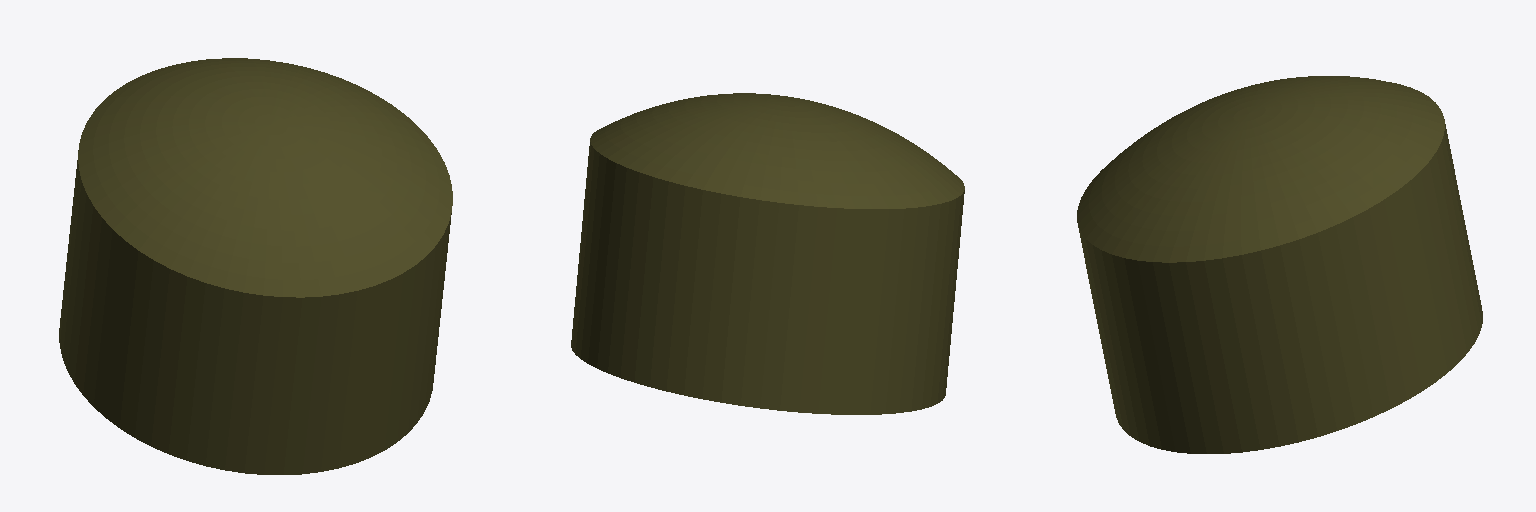
File: original-7.obj
The picture shows the model from 3 angles: view 1: azimuth 30°, elevation 25°; view 2: azimuth 150°, elevation 25°; view 3: azimuth 270°, elevation 25°; orthographic projection.
Visible parts, largest first — view 1: instance_3/Group_12/ID31#ID31; view 2: instance_3/Group_12/ID31#ID31; view 3: instance_3/Group_12/ID31#ID31.
Boxes of the visible parts, x1,y1,x2,y2 form: instance_3/Group_12/ID31#ID31: [59, 58, 452, 474]; instance_3/Group_12/ID31#ID31: [571, 93, 964, 414]; instance_3/Group_12/ID31#ID31: [1077, 76, 1482, 453].
Bounding box in the file's own units: 0.0403 × 0.0358 × 0.0434.